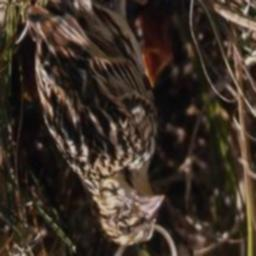Sparrow: (24, 0, 168, 247)
